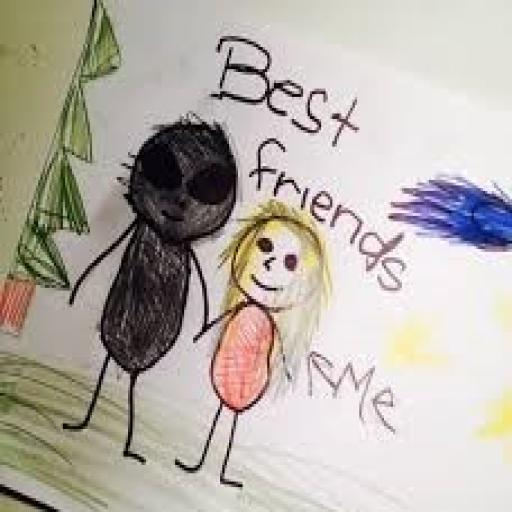person: (60, 96, 240, 468), (176, 211, 352, 494)
